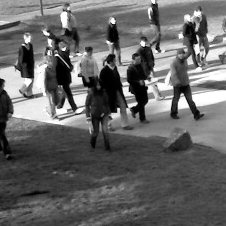person: (99, 53, 134, 132), (170, 47, 206, 120), (131, 36, 166, 101), (54, 40, 82, 114), (86, 77, 111, 153), (127, 53, 149, 123), (38, 55, 61, 120), (15, 32, 34, 99), (181, 14, 203, 70), (60, 3, 82, 58), (1, 78, 14, 161), (192, 5, 209, 67), (77, 46, 99, 91), (147, 1, 165, 53), (106, 15, 124, 66), (219, 16, 226, 65), (42, 26, 64, 41), (44, 36, 58, 55)
